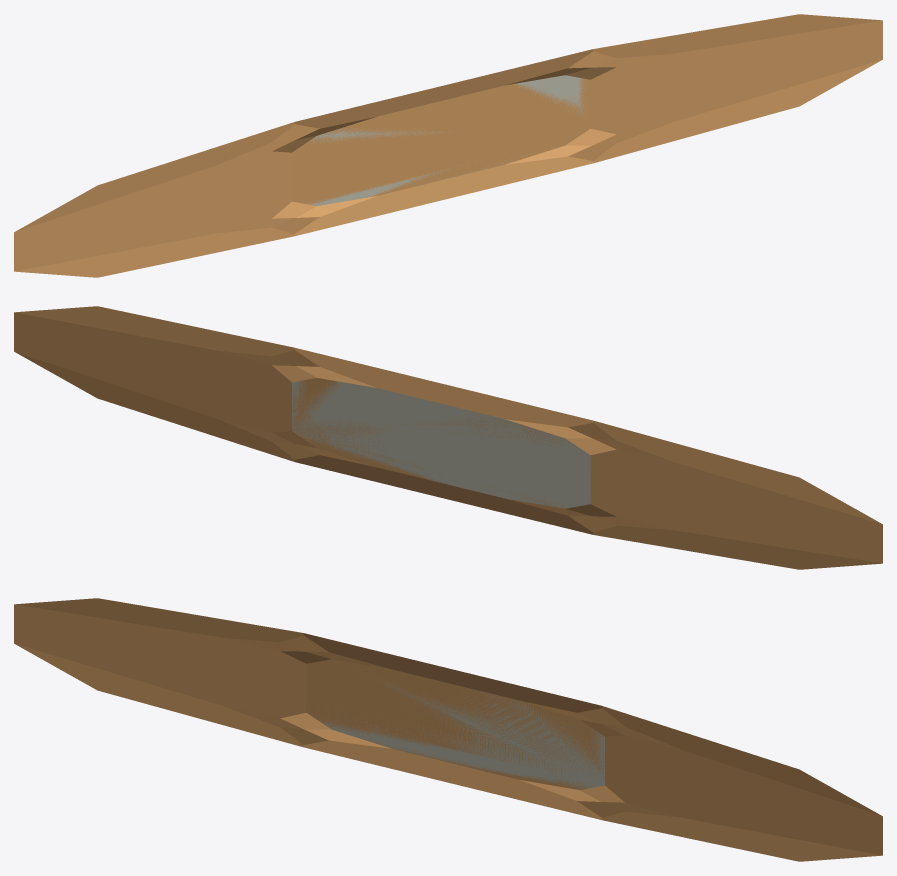
Rendered from G477Bandaid.fbx.
3 views of the same model, one above another, from view 1: azimuth 30°, elevation 25°; view 2: azimuth 150°, elevation 25°; view 3: azimuth 330°, elevation 25° (orthographic).
Visible parts, largest first — view 1: Plane.005; view 2: Plane.005; view 3: Plane.005.
Boxes of the visible parts, bbox=[...] form: Plane.005: bbox=[14, 14, 882, 277]; Plane.005: bbox=[14, 306, 882, 569]; Plane.005: bbox=[14, 598, 882, 861].
Bounding box in the file's own units: 0.678 × 0.0853 × 0.00983.
